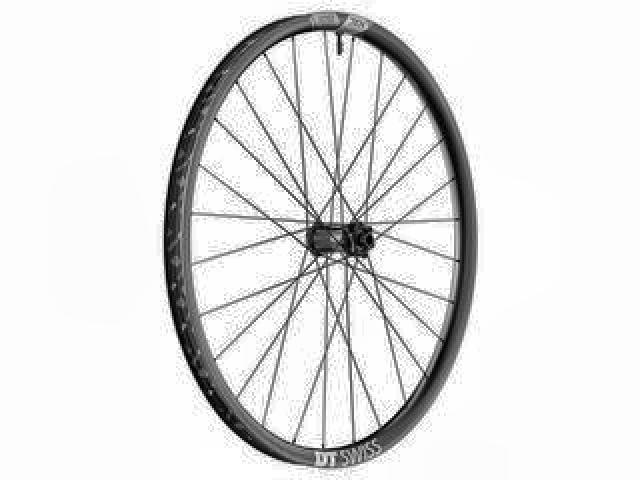wheel: (159, 9, 481, 475)
